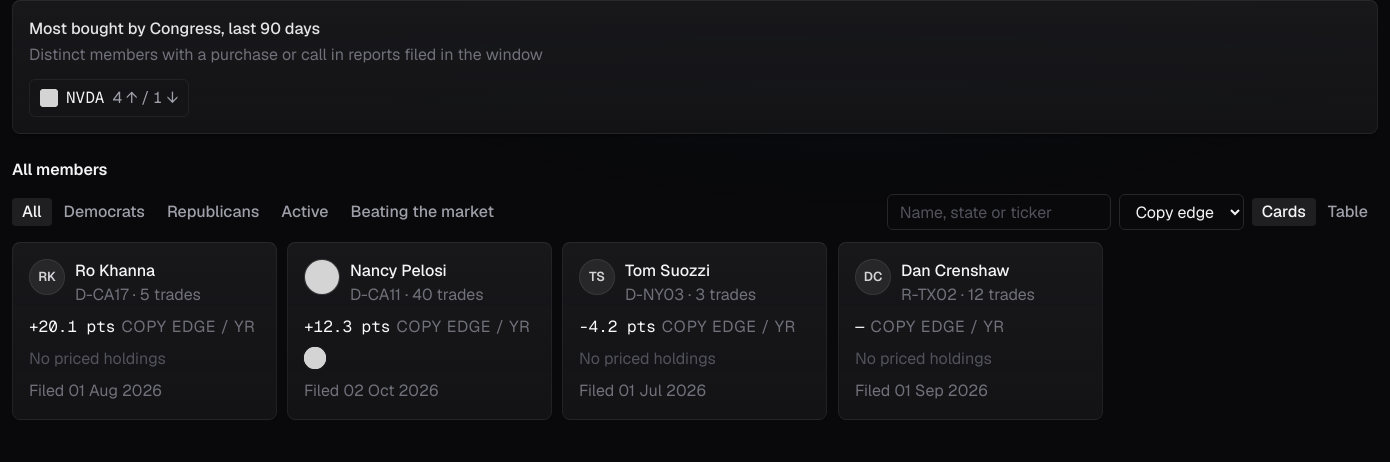
Test: CongressDirectory › switches to a table that sorts from its headers
Click the button "Table" at (1348, 212), box [1318,198,1378,226]
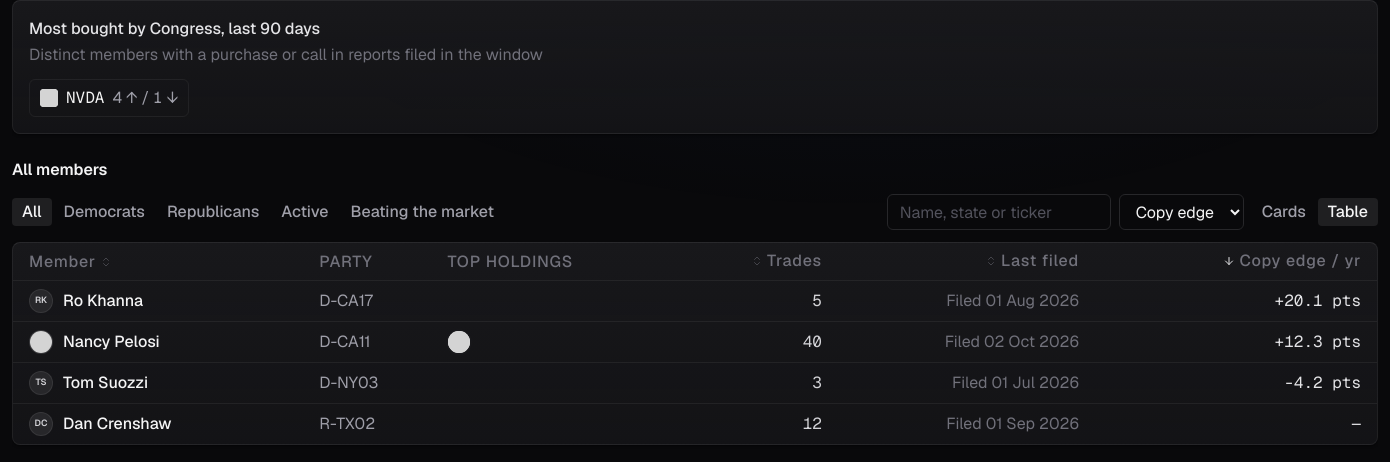
Click the button "Member" at (70, 262), box [29,250,112,274]
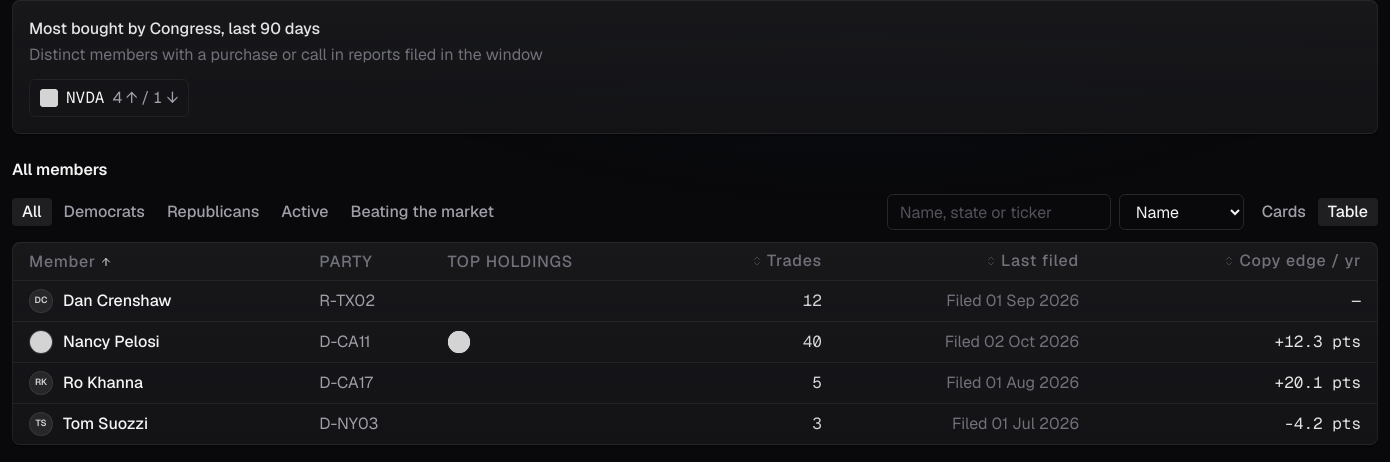
Expected: the dropdown named "Sort members" shows "Name", [1119,194,1244,230]
